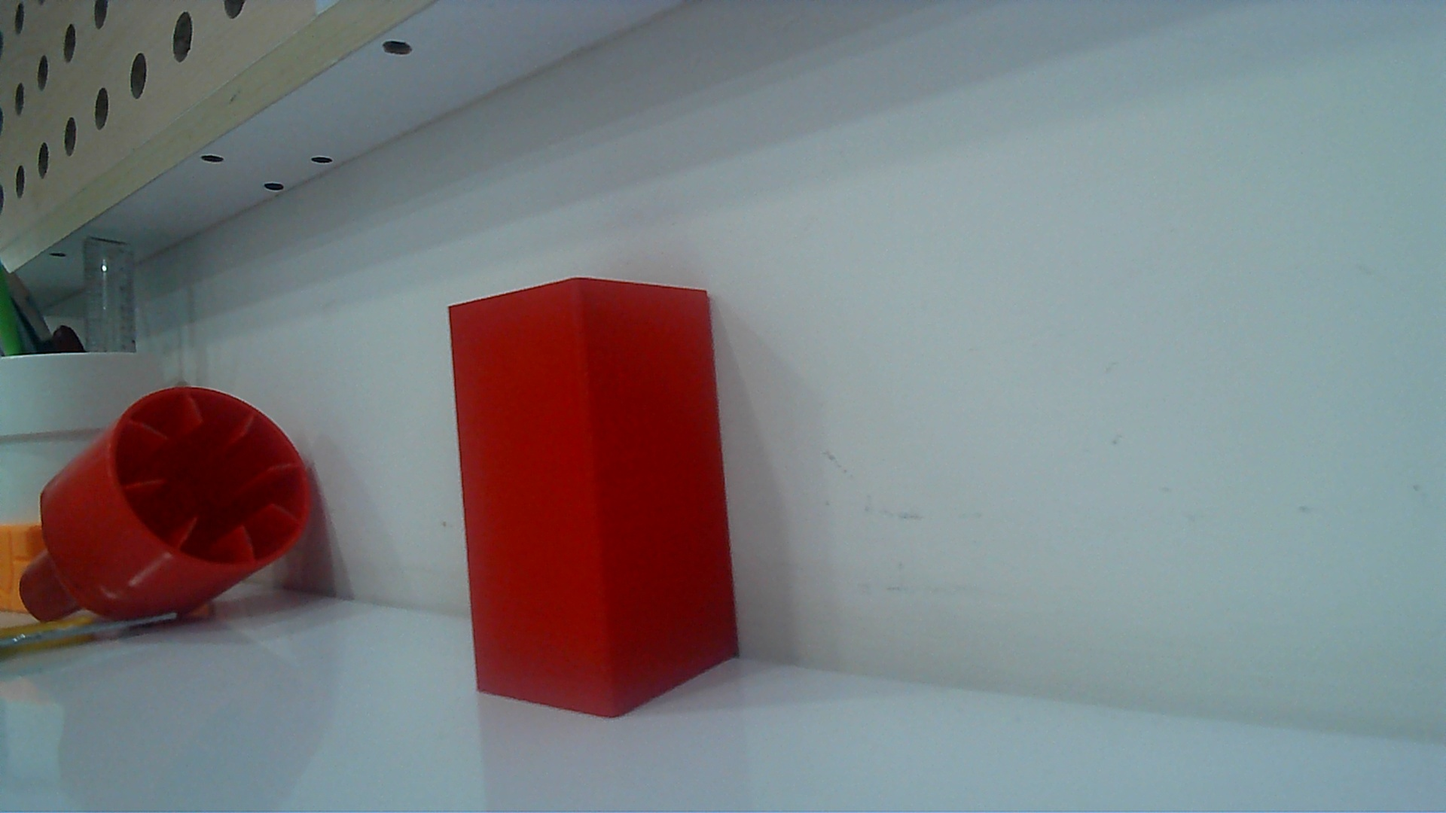red: (422, 271, 775, 730)
